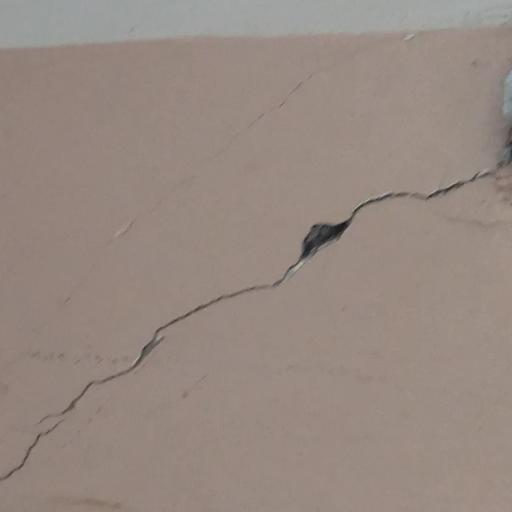major_crack: (0, 148, 512, 500)
